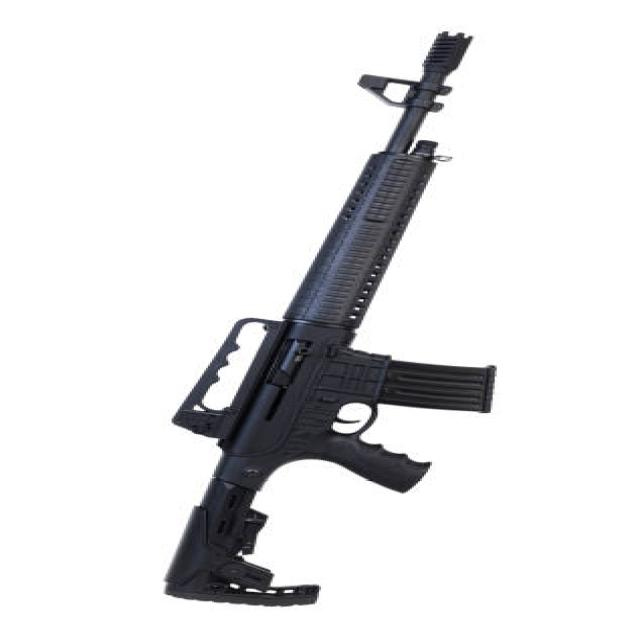rifle: (115, 23, 535, 621)
